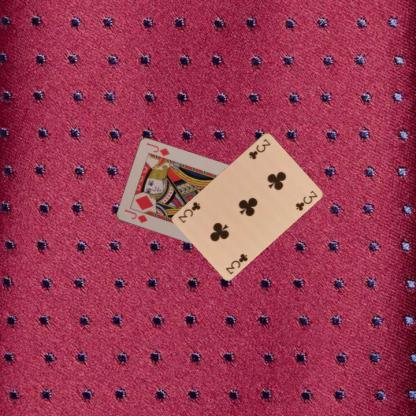3c: (246, 136, 272, 160), (223, 251, 249, 275)
Jd: (122, 207, 148, 224)
